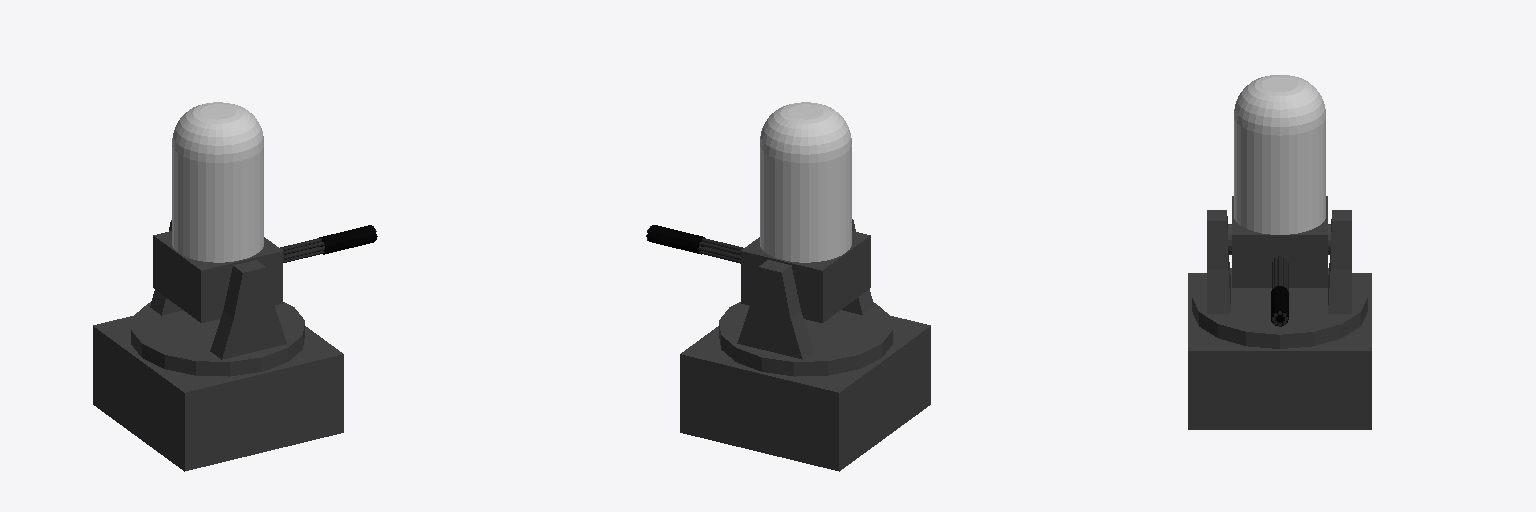
The model's file is C_RAM.obj.
3 renders of one model, left to right at view 1: azimuth 30°, elevation 25°; view 2: azimuth 150°, elevation 25°; view 3: azimuth 270°, elevation 25°, orthographic.
Visible parts, largest first — view 1: Base_Metal, Gun.Fairing_Fairing, Yaw.Base_Metal, Gun.Center_Metal, Yaw.Right_Metal, Gun.Front_Steel2; view 2: Base_Metal, Gun.Fairing_Fairing, Yaw.Base_Metal, Gun.Center_Metal, Yaw.Left_Metal, Gun.Front_Steel2; view 3: Base_Metal, Gun.Fairing_Fairing, Yaw.Base_Metal, Gun.Center_Metal, Yaw.Right_Metal, Yaw.Left_Metal, Gun.Front_Steel2.
Part boxes in pixels (x1,y1,x2,y2): Base_Metal: (93, 316, 343, 471); Gun.Fairing_Fairing: (172, 102, 263, 262); Yaw.Base_Metal: (131, 302, 304, 376); Gun.Center_Metal: (153, 231, 282, 322); Yaw.Right_Metal: (210, 260, 286, 359); Gun.Front_Steel2: (319, 225, 376, 254); Base_Metal: (680, 316, 930, 471); Gun.Fairing_Fairing: (760, 102, 851, 262); Yaw.Base_Metal: (719, 302, 892, 376); Gun.Center_Metal: (741, 231, 870, 322); Yaw.Left_Metal: (737, 260, 813, 359); Gun.Front_Steel2: (647, 225, 704, 254); Base_Metal: (1188, 273, 1371, 429); Gun.Fairing_Fairing: (1234, 75, 1325, 234); Yaw.Base_Metal: (1192, 268, 1367, 348); Gun.Center_Metal: (1232, 196, 1327, 287); Yaw.Right_Metal: (1207, 210, 1230, 313); Yaw.Left_Metal: (1328, 210, 1351, 313); Gun.Front_Steel2: (1271, 286, 1288, 326).
Size of the model in its own units: 3.75 by 4.67 by 2.54.